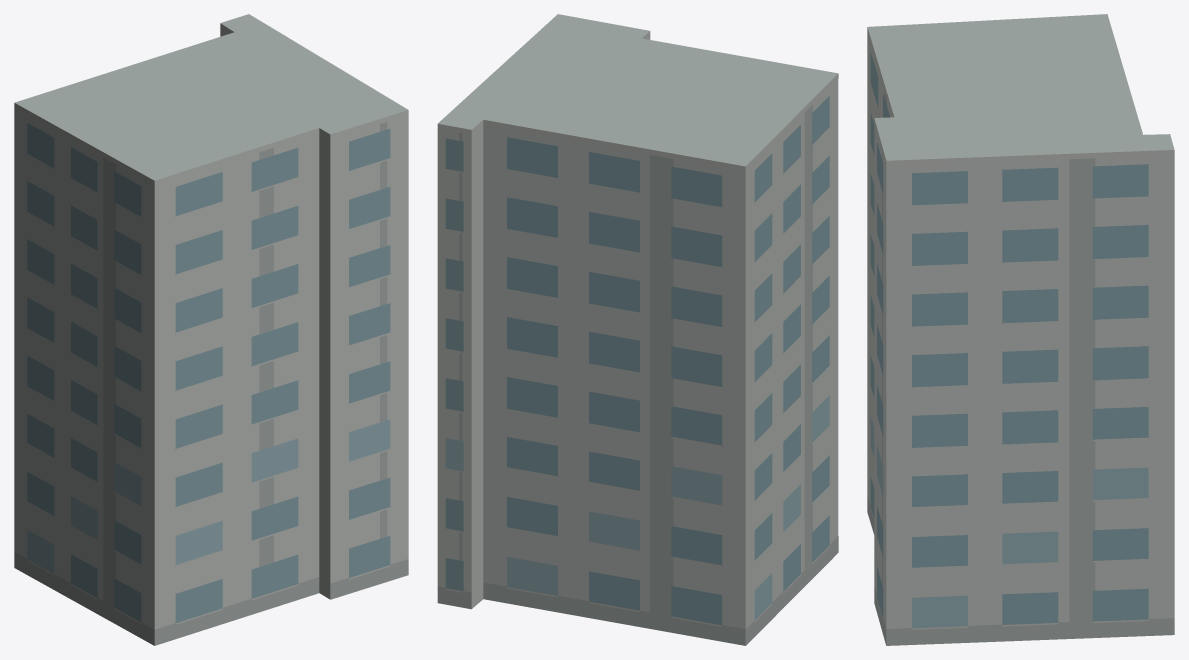
Rendered from survey-upis-32797689.glb.
3 renders of one model, left to right at view 1: azimuth 30°, elevation 25°; view 2: azimuth 150°, elevation 25°; view 3: azimuth 270°, elevation 25°, orthographic. The views are drawn at different scales.
Parts seen in each view (by area): view 1: survey-upis-32797689.tmp; view 2: survey-upis-32797689.tmp; view 3: survey-upis-32797689.tmp.
Boxes of the visible parts, x1=… form: survey-upis-32797689.tmp: x1=14, y1=14, x2=408, y2=645; survey-upis-32797689.tmp: x1=437, y1=14, x2=838, y2=645; survey-upis-32797689.tmp: x1=867, y1=14, x2=1174, y2=645.
Bounding box in the file's own units: 14.09 × 21.7 × 12.46.
